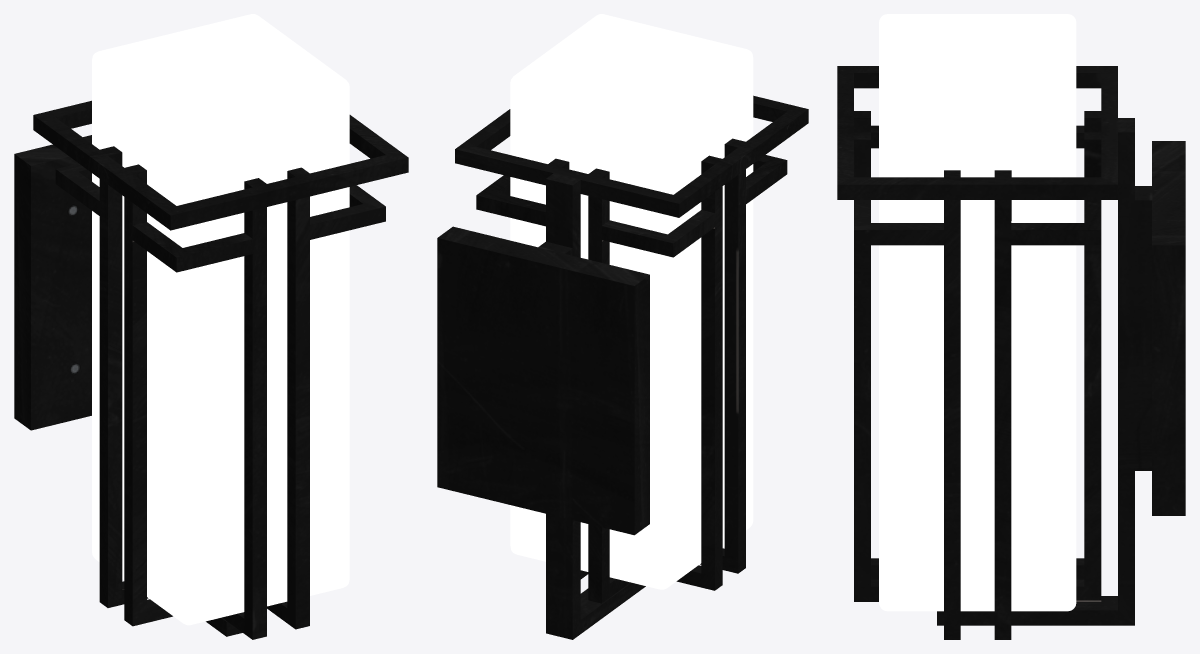
The model's file is wall_light.glb.
3 renders of one model, left to right at view 1: azimuth 30°, elevation 25°; view 2: azimuth 150°, elevation 25°; view 3: azimuth 270°, elevation 25°, orthographic. The views are drawn at different scales.
Parts seen in each view (by area): view 1: #LMP0006_Deco_Wall_Metal_Black; view 2: #LMP0006_Deco_Wall_Metal_Black; view 3: #LMP0006_Deco_Wall_Metal_Black.
Boxes of the visible parts, left/top/right/bottom form: #LMP0006_Deco_Wall_Metal_Black: left=14, top=14, right=408, bottom=639; #LMP0006_Deco_Wall_Metal_Black: left=437, top=14, right=808, bottom=639; #LMP0006_Deco_Wall_Metal_Black: left=837, top=14, right=1185, bottom=639.
Bounding box in the file's own units: 0.189 × 0.4199 × 0.2345.
Materials: 1 (1 with a texture image).
